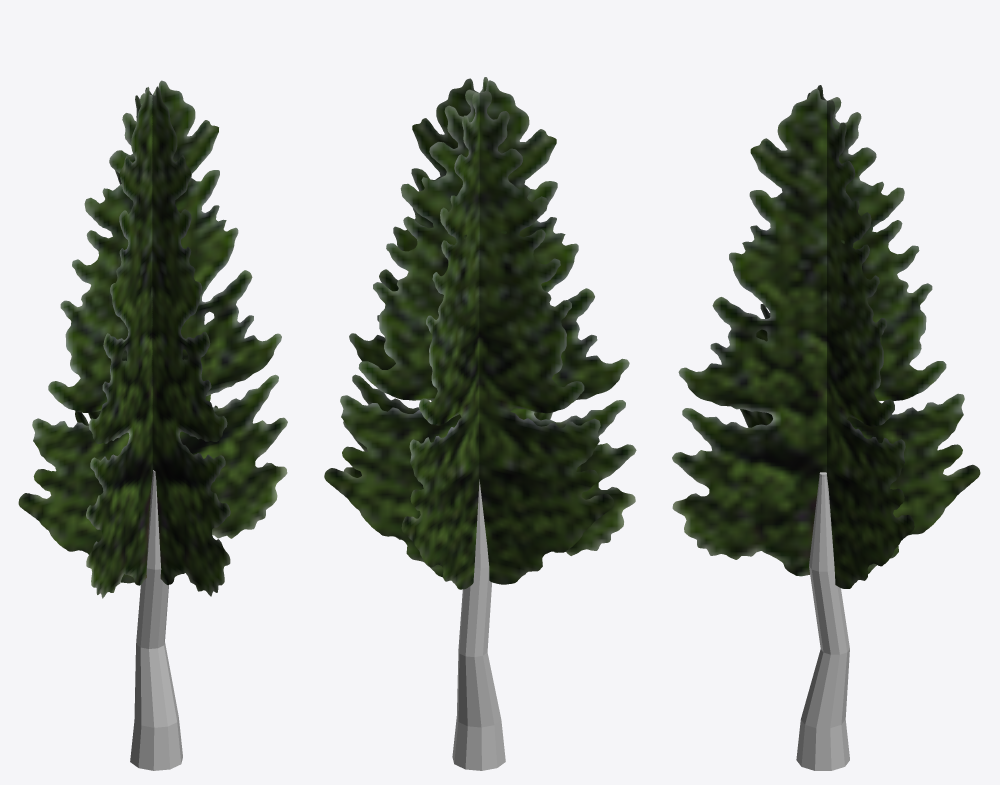
The model's file is uglyTree2.fbx.
3 renders of one model, left to right at view 1: azimuth 30°, elevation 25°; view 2: azimuth 150°, elevation 25°; view 3: azimuth 270°, elevation 25°, orthographic.
Parts seen in each view (by area): view 1: Plane.001; view 2: Plane.001; view 3: Plane.001.
Boxes of the visible parts, <box> form: Plane.001: <box>18,80,287,770</box>; Plane.001: <box>324,77,636,770</box>; Plane.001: <box>672,85,980,770</box>.
Bounding box in the file's own units: 600 × 1416 × 600.
